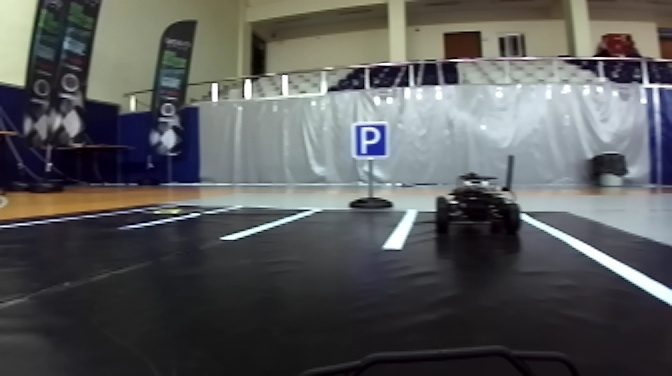park: (349, 123, 395, 160)
